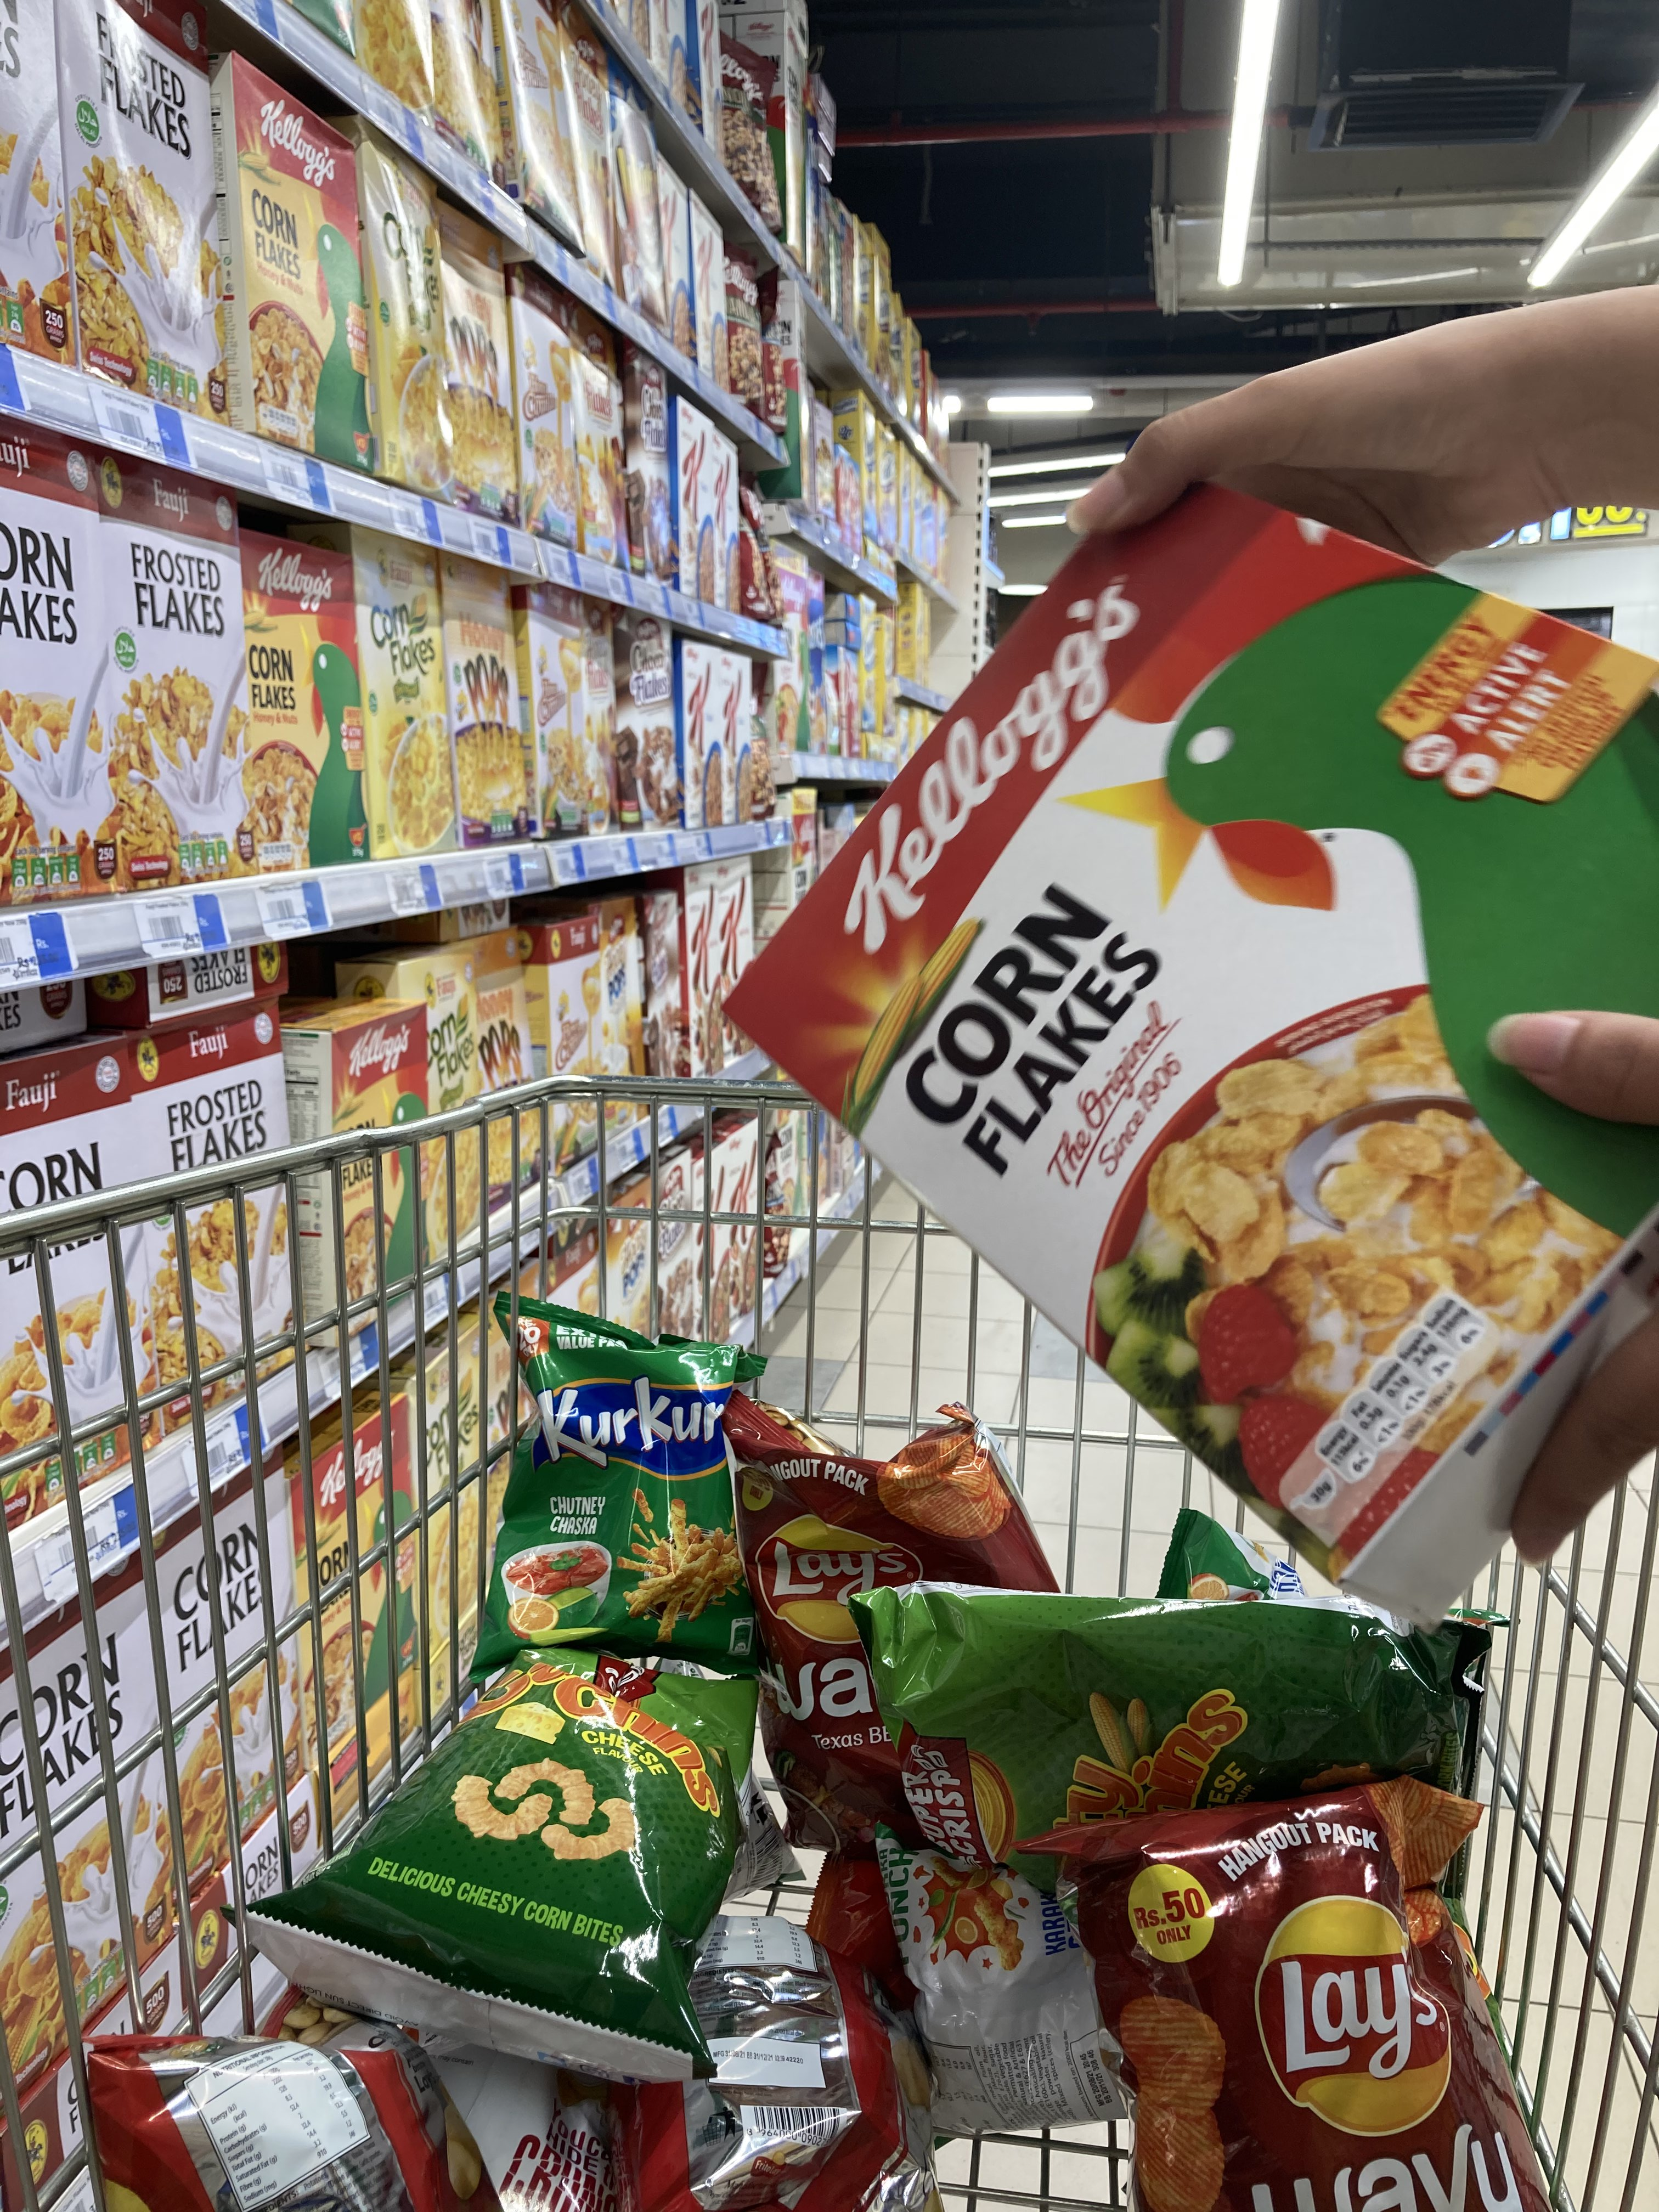Kellogg's Corn Flakes: (728, 479, 1659, 1637)
